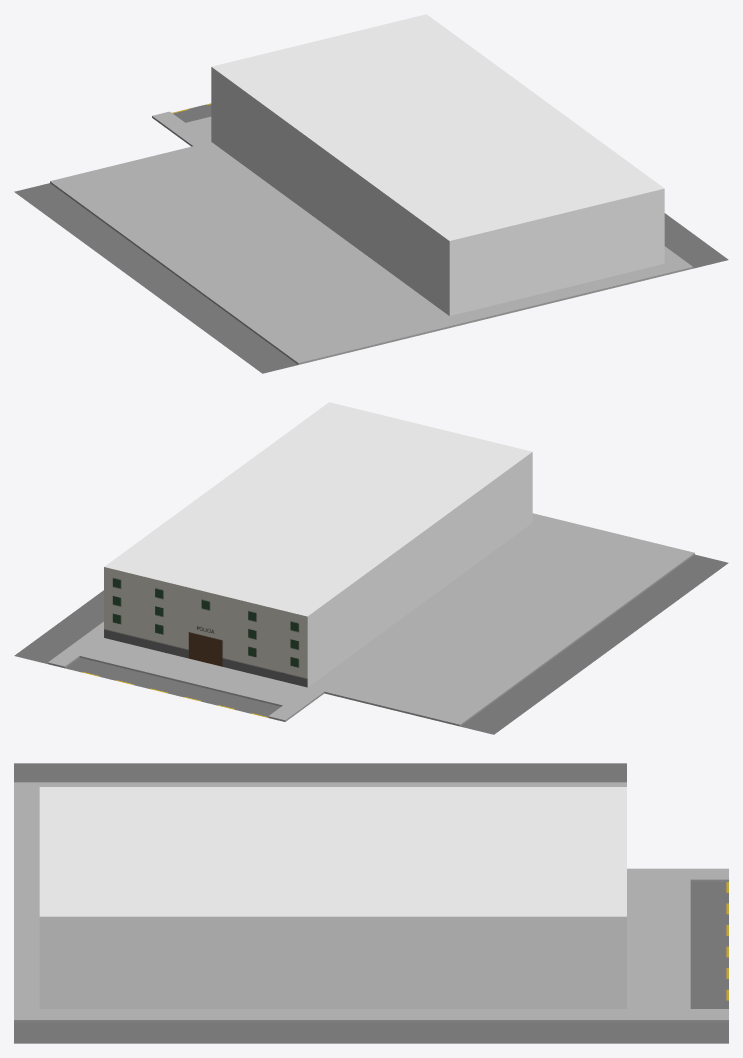
The model's file is police.glb.
3 views of the same model, one above another, from view 1: azimuth 30°, elevation 25°; view 2: azimuth 150°, elevation 25°; view 3: azimuth 270°, elevation 25° (orthographic). The views are drawn at different scales.
Parts seen in each view (by area): view 1: Plane, Sidewalk; view 2: Plane, Sidewalk; view 3: Plane, Sidewalk.
Part boxes in pixels (x1=…): Plane: x1=14, y1=14, x2=728, y2=373; Sidewalk: x1=50, y1=142, x2=692, y2=364; Plane: x1=14, y1=402, x2=728, y2=734; Sidewalk: x1=87, y1=513, x2=694, y2=726; Plane: x1=14, y1=763, x2=728, y2=1043; Sidewalk: x1=14, y1=782, x2=626, y2=1022.
Size of what is drawn, in the model's own units: 52 by 8.2 by 56.
6 materials, 2 textured.
